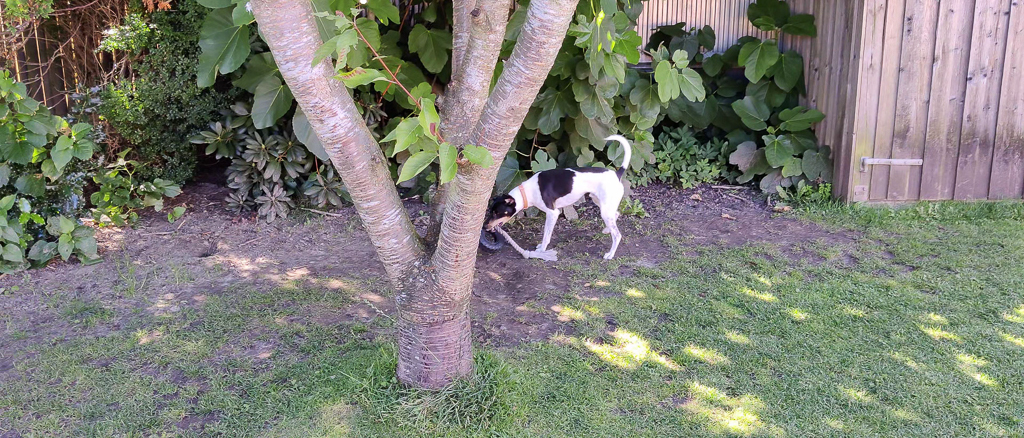Dog: (472, 127, 638, 269)
